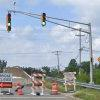traffic lights: (7, 11, 12, 33), (41, 13, 47, 28)
